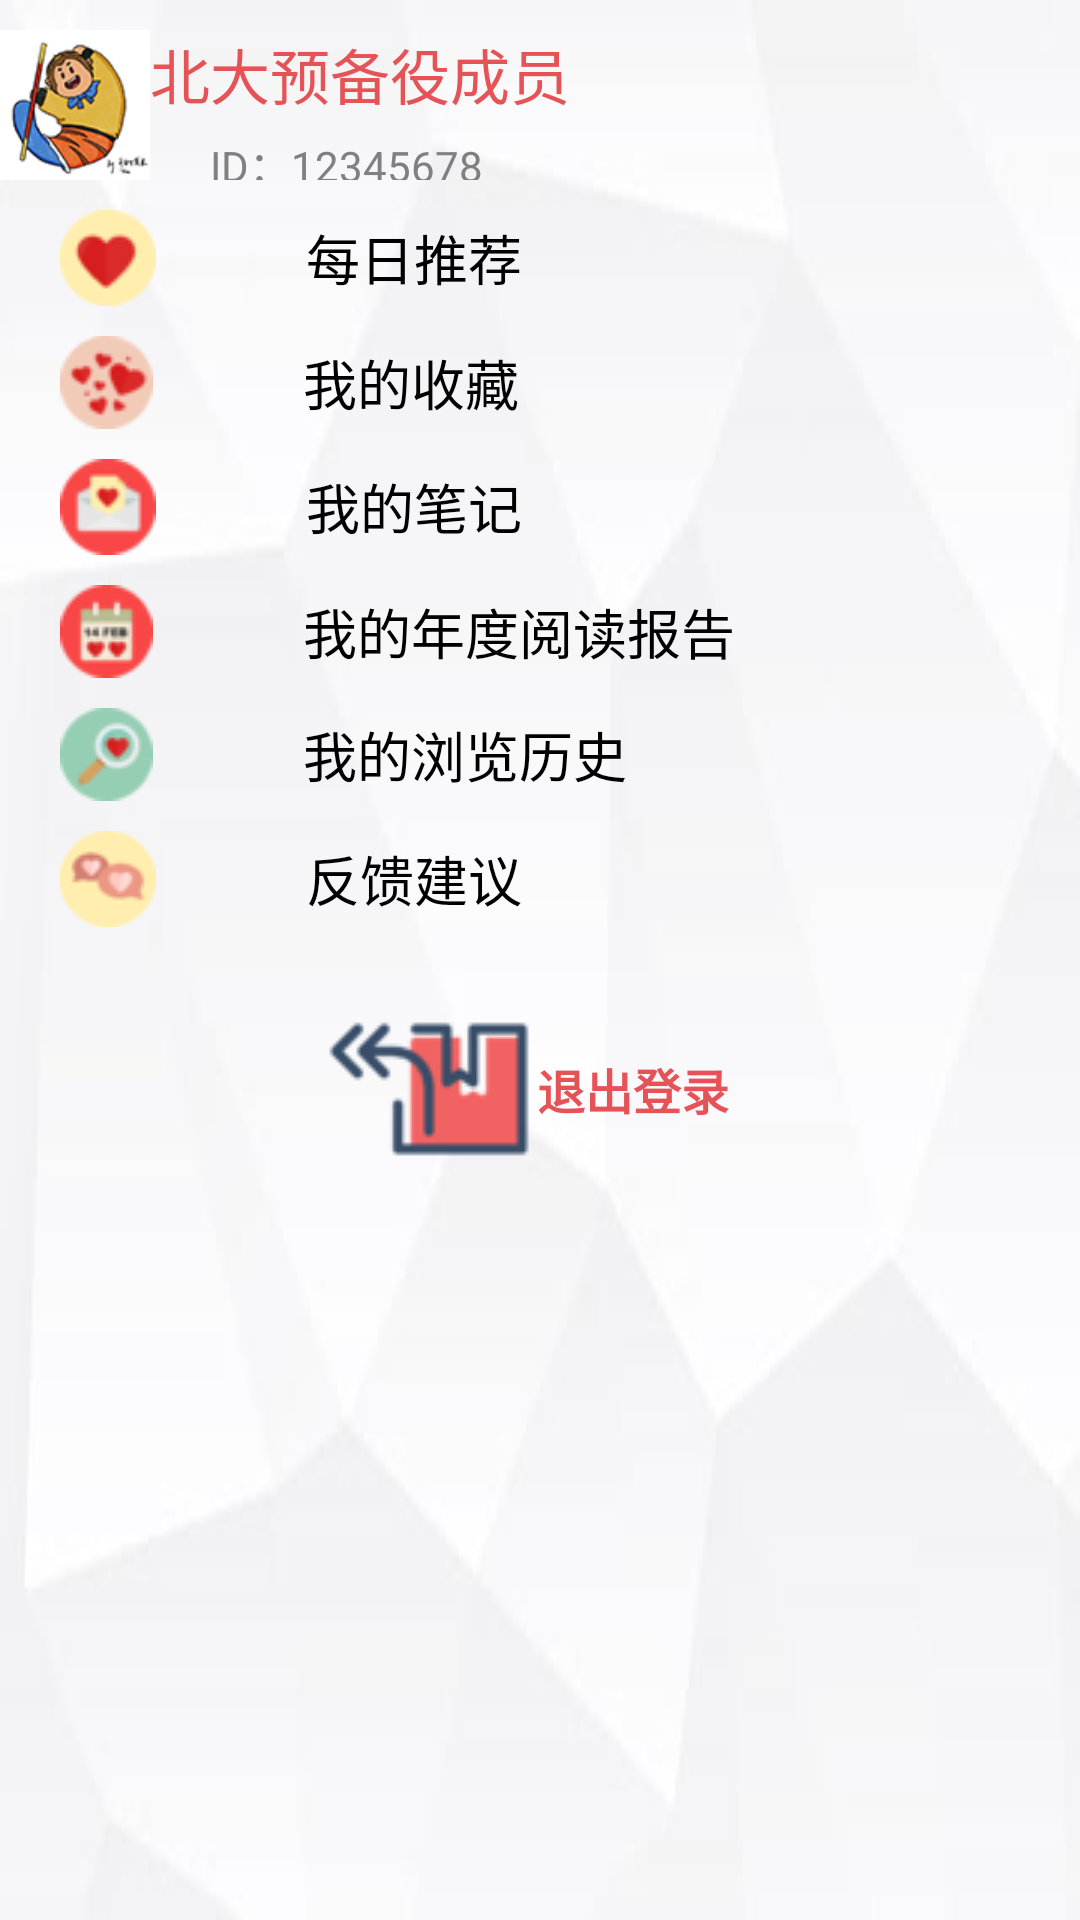

Icons on this 1080w x 1920h Android screen, each with the point to tap as (x=x, y=y):
fankuijianyi: (x=108, y=879)
touxiang: (x=79, y=108)
wodeliulanlishi: (x=106, y=754)
wodeshoucang: (x=106, y=382)
